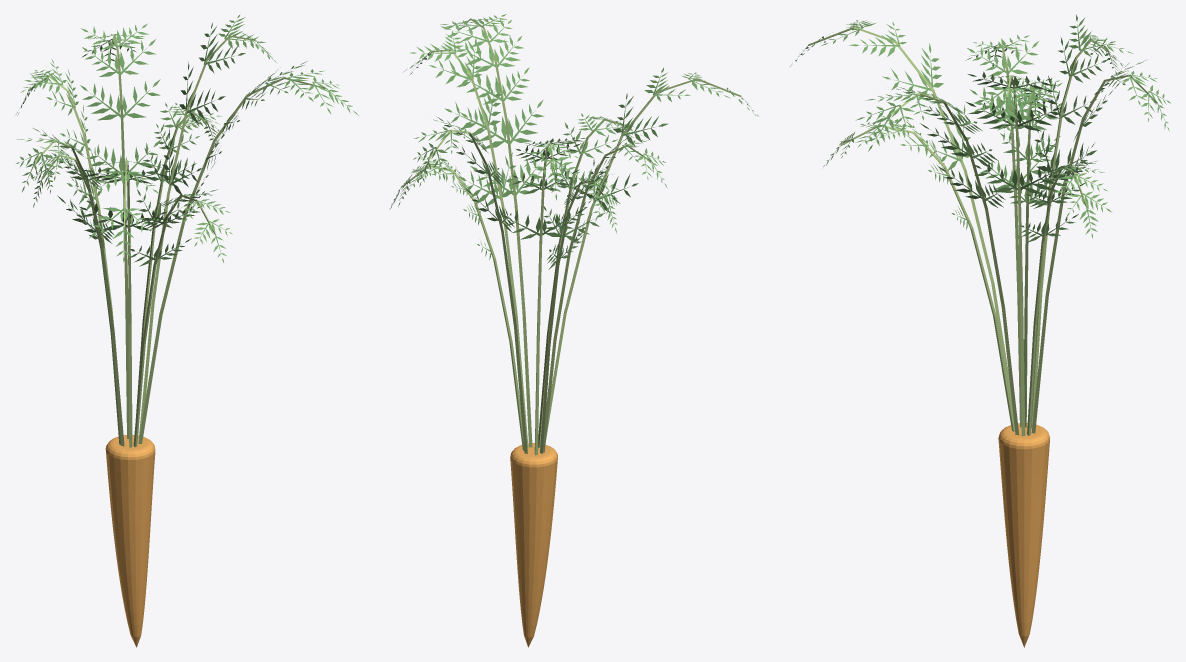
File: carrot_harvest_v18.glb
The picture shows the model from 3 angles, left to right: view 1: azimuth 30°, elevation 25°; view 2: azimuth 150°, elevation 25°; view 3: azimuth 270°, elevation 25°; orthographic projection. The views are drawn at different scales.
Parts seen in each view (by area): view 1: plant; view 2: plant; view 3: plant.
Boxes of the visible parts, x1,y1,x2,y2 form: plant: (16,14,358,647); plant: (390,14,758,647); plant: (790,14,1170,647).
Bounding box in the file's own units: 0.2359 × 0.4625 × 0.2586.
1 material, 1 textured.
